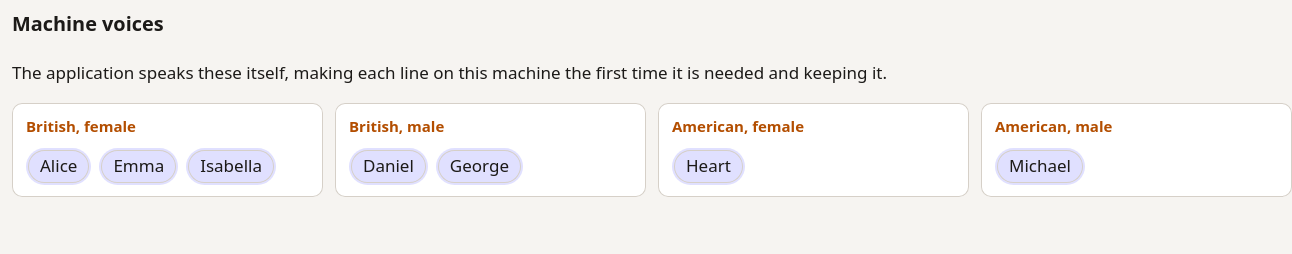
Scenario: the machine voices › says why a machine voice could not be cast
The image size is (1292, 254).
expect the element "British, male" is shown: met, box [335,103,646,196]
Click the button with aria-label "Cast Emma (British, female)" at [139, 166], box [99,148,178,184]
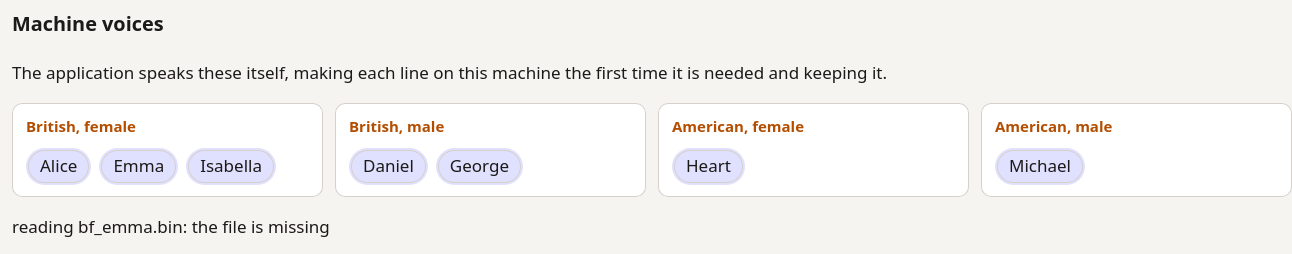
expect the message reads "reading bf_emma.bin: the file is missing": met, box [12,214,330,238]
